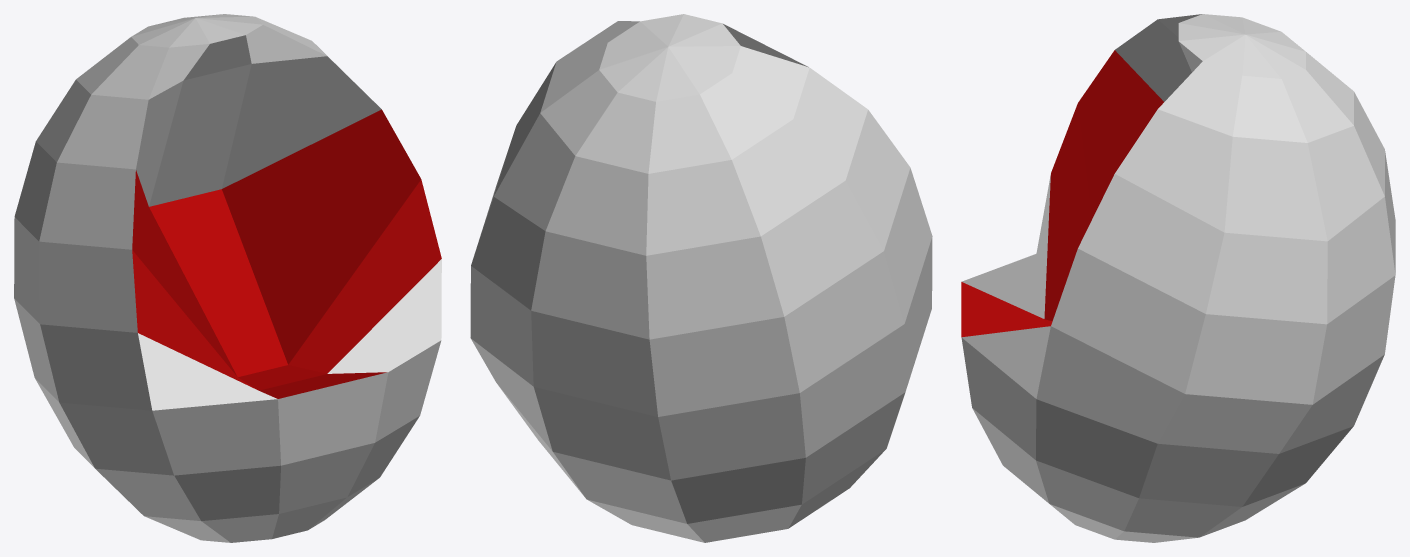
The model's file is ChairFO1.fbx.
3 renders of one model, left to right at view 1: azimuth 30°, elevation 25°; view 2: azimuth 150°, elevation 25°; view 3: azimuth 270°, elevation 25°, orthographic. The views are drawn at different scales.
Visible parts, largest first — view 1: pasted__pSphere1; view 2: pasted__pSphere1; view 3: pasted__pSphere1.
Boxes of the visible parts, box(x1,y1,x2,y2) form: pasted__pSphere1: box(14, 14, 441, 542); pasted__pSphere1: box(470, 14, 932, 542); pasted__pSphere1: box(961, 14, 1395, 542).
Size of the model in its own units: 4.45 by 5.41 by 4.32.
